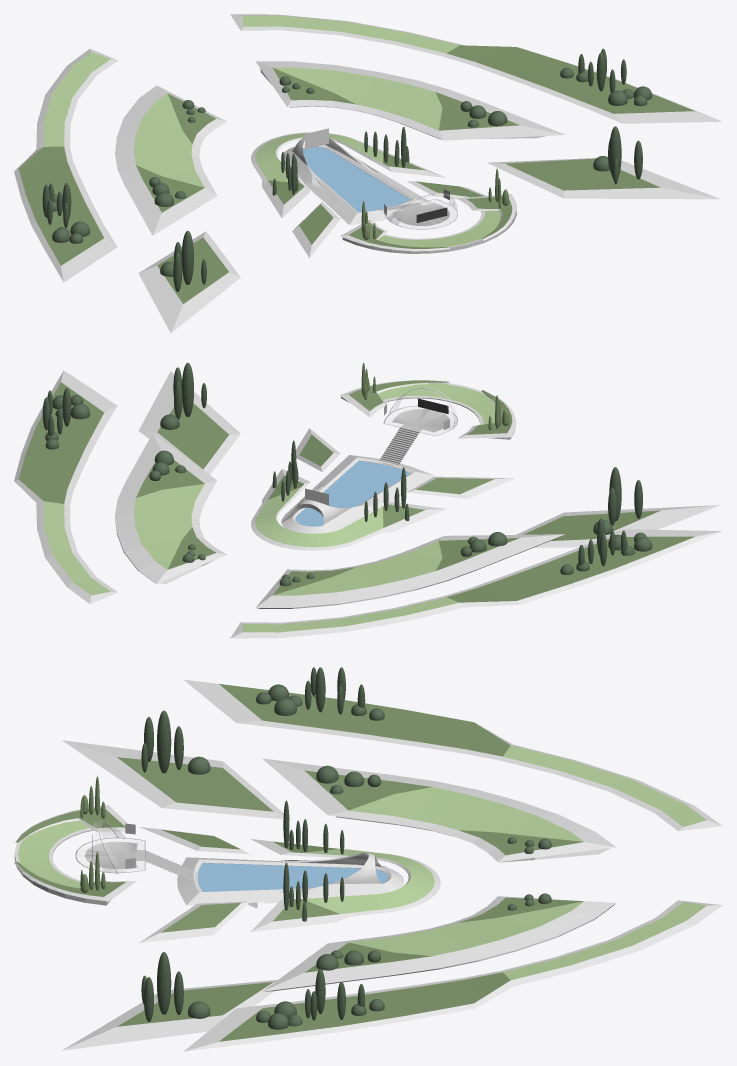
The model's file is Skypad-Blockout-Preprod.fbx.
3 renders of one model, top to bottom at view 1: azimuth 30°, elevation 25°; view 2: azimuth 150°, elevation 25°; view 3: azimuth 270°, elevation 25°, orthographic. The views are drawn at different scales.
Visible parts, largest first — view 1: Cylinder.011, Cylinder.012, Cylinder.019, Cylinder.015, Cylinder.009, Cylinder.008, Cube.015, Workroom_Skypad_Canopy_Small.008, Sphere.051, Cylinder.010, Cylinder.014, Cube.018 (+2 smaller); view 2: Cylinder.011, Cylinder.012, Cylinder.019, Cylinder.015, Cylinder.009, Workroom_Skypad_Canopy_Small.008, Cylinder.008, Cube.015, Cylinder.010, Sphere.051, Cylinder.014, Cube.018 (+3 smaller); view 3: Cylinder.011, Cylinder.012, Cylinder.019, Cylinder.015, Cylinder.009, Workroom_Skypad_Canopy_Small.008, Cylinder.008, Cube.015, Cylinder.010, Sphere.051, Cylinder.014, Cube.018 (+6 smaller).
Boxes of the visible parts, x1=… form: Cylinder.011: x1=14, y1=14, x2=721, y2=282; Cylinder.012: x1=115, y1=61, x2=565, y2=235; Cylinder.019: x1=138, y1=158, x2=720, y2=333; Cylinder.015: x1=251, y1=132, x2=486, y2=257; Cylinder.009: x1=284, y1=144, x2=432, y2=224; Cylinder.008: x1=342, y1=194, x2=516, y2=253; Cube.015: x1=340, y1=194, x2=515, y2=251; Workroom_Skypad_Canopy_Small.008: x1=379, y1=189, x2=457, y2=229; Sphere.051: x1=181, y1=126, x2=621, y2=284; Cylinder.010: x1=281, y1=137, x2=379, y2=200; Cylinder.014: x1=272, y1=126, x2=409, y2=195; Cube.018: x1=361, y1=168, x2=509, y2=239; Cylinder.011: x1=14, y1=370, x2=722, y2=638; Cylinder.012: x1=115, y1=433, x2=564, y2=608; Cylinder.019: x1=138, y1=371, x2=720, y2=547; Cylinder.015: x1=251, y1=428, x2=515, y2=550; Cylinder.009: x1=281, y1=455, x2=434, y2=533; Workroom_Skypad_Canopy_Small.008: x1=379, y1=387, x2=457, y2=466; Cylinder.008: x1=341, y1=380, x2=515, y2=439; Cube.015: x1=340, y1=380, x2=516, y2=438; Cylinder.010: x1=281, y1=483, x2=393, y2=532; Sphere.051: x1=181, y1=362, x2=621, y2=521; Cylinder.014: x1=272, y1=440, x2=409, y2=521; Cube.018: x1=361, y1=362, x2=509, y2=430; Cylinder.011: x1=183, y1=679, x2=722, y2=1051; Cylinder.012: x1=262, y1=758, x2=615, y2=991; Cylinder.019: x1=62, y1=740, x2=291, y2=1050; Cylinder.015: x1=139, y1=827, x2=440, y2=943; Cylinder.009: x1=177, y1=857, x2=404, y2=905; Workroom_Skypad_Canopy_Small.008: x1=75, y1=821, x2=257, y2=908; Cylinder.008: x1=14, y1=812, x2=110, y2=905; Cube.015: x1=14, y1=805, x2=136, y2=901; Cylinder.010: x1=264, y1=853, x2=388, y2=903; Sphere.051: x1=157, y1=710, x2=171, y2=1014; Cylinder.014: x1=283, y1=800, x2=306, y2=921; Cube.018: x1=80, y1=776, x2=105, y2=892.
Size of what is drawn, in the model's own units: 13438 by 1496 by 10820.
